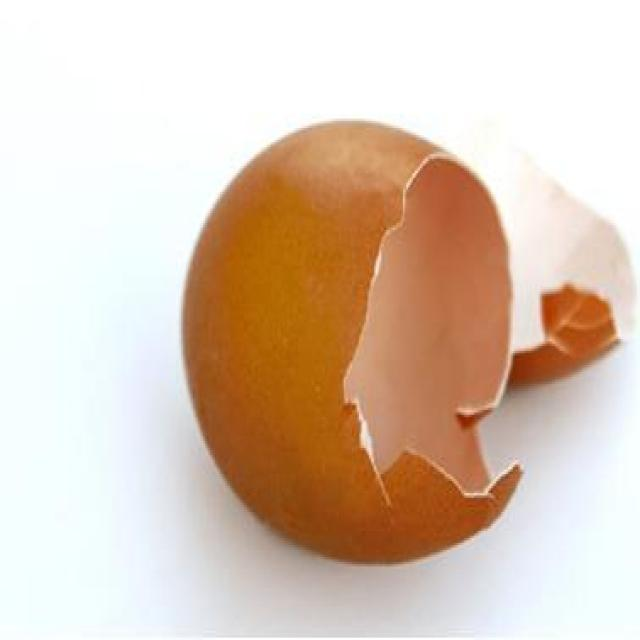organic: (178, 119, 638, 569)
